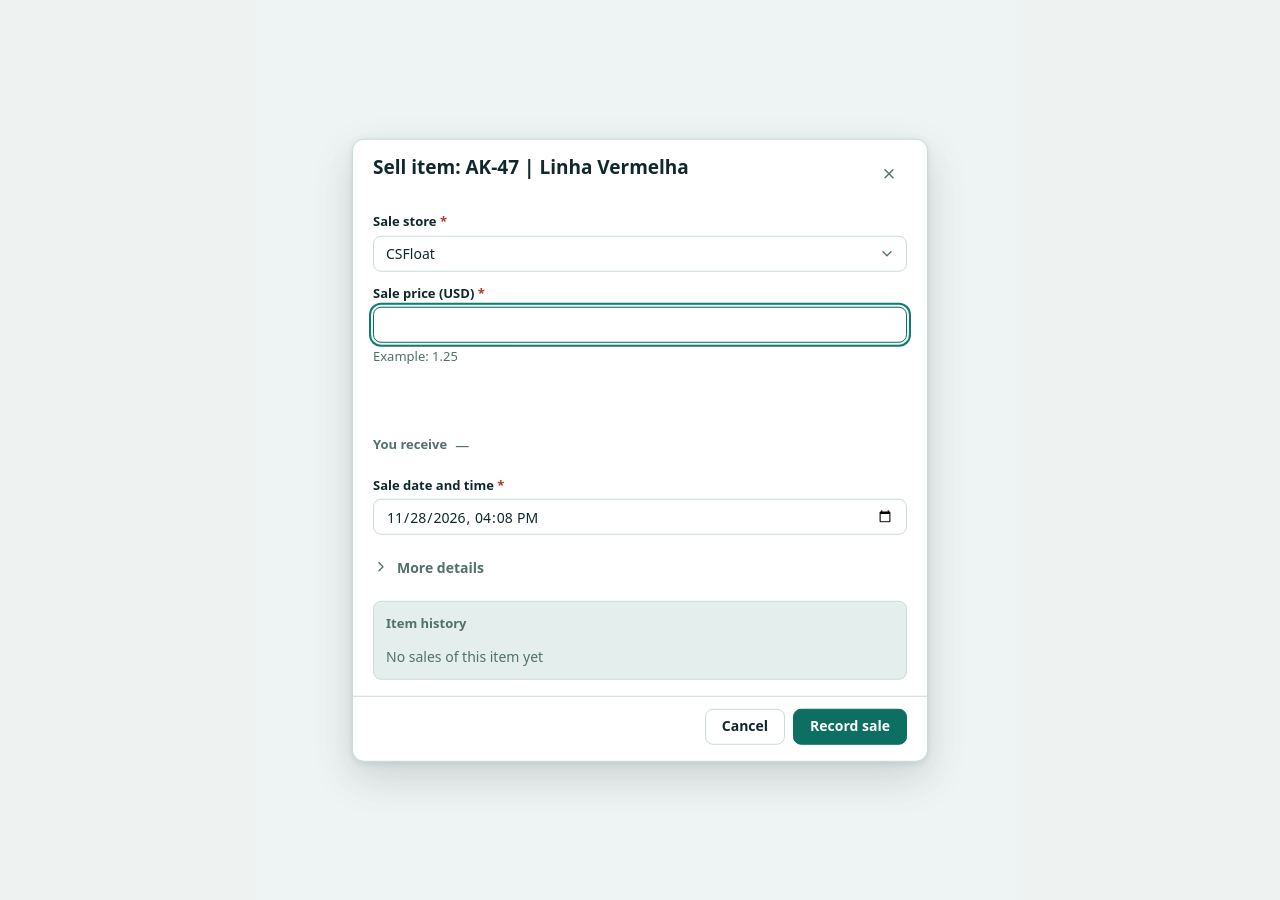
Test: SellItemModal: loja sem taxas › o líquido é obrigatório e fica à vista, com o aviso e o link para Lojas
Select "CSMoney (no fees set for the store)" in the dropdown labelled "Sale store *" at (640, 253), box 373,235 -> 907,271
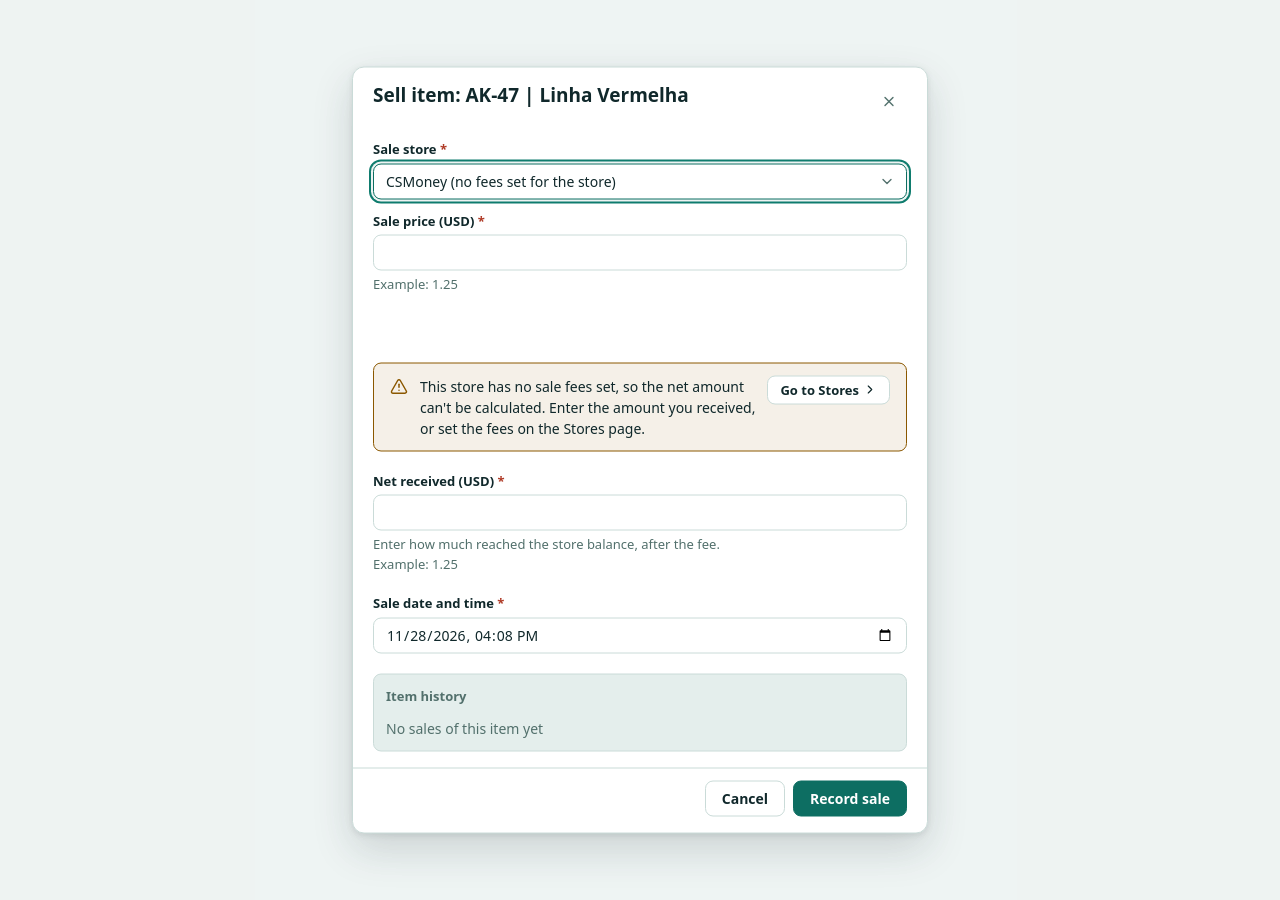
Check: the text "You receive" is not shown
Check: the text "no sale fees set" is shown, box 420,376 -> 755,437
